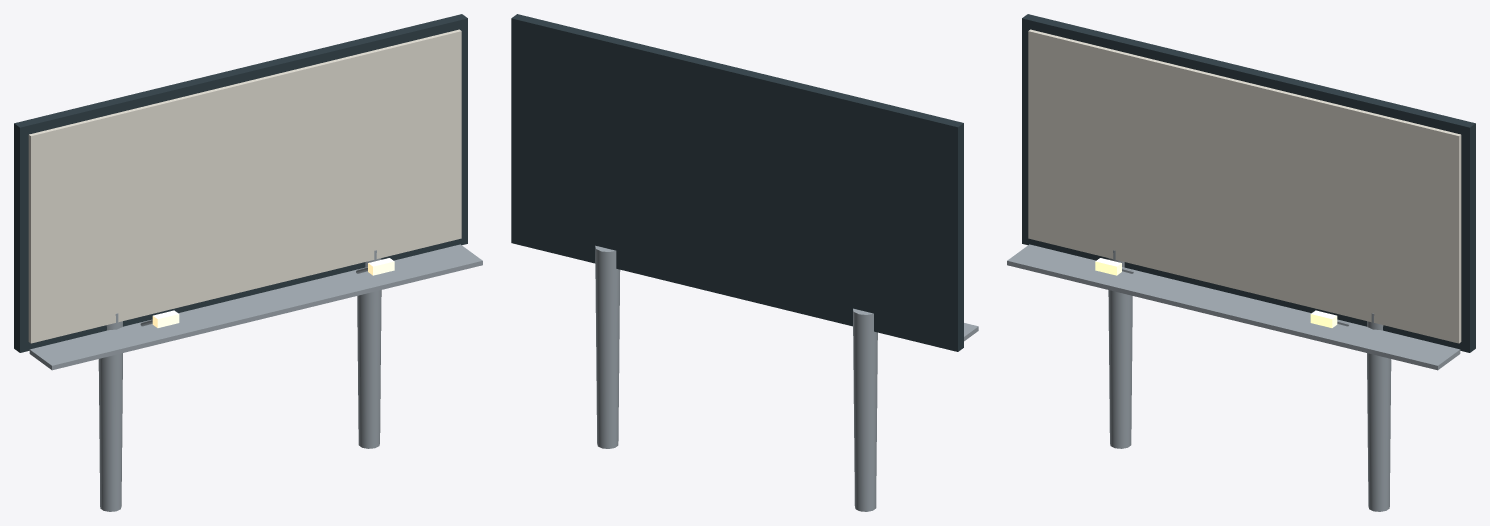
The model's file is town_billboard.glb.
The picture shows the model from 3 angles, left to right: view 1: azimuth 30°, elevation 25°; view 2: azimuth 150°, elevation 25°; view 3: azimuth 330°, elevation 25°; orthographic projection.
Parts seen in each view (by area): view 1: TownBillboard_body; view 2: TownBillboard_body; view 3: TownBillboard_body.
Part boxes in pixels (x1=…): TownBillboard_body: x1=14, y1=14, x2=482, y2=511; TownBillboard_body: x1=511, y1=14, x2=978, y2=511; TownBillboard_body: x1=1007, y1=14, x2=1475, y2=511.
Bounding box in the file's own units: 10.4 × 9 × 1.71.
